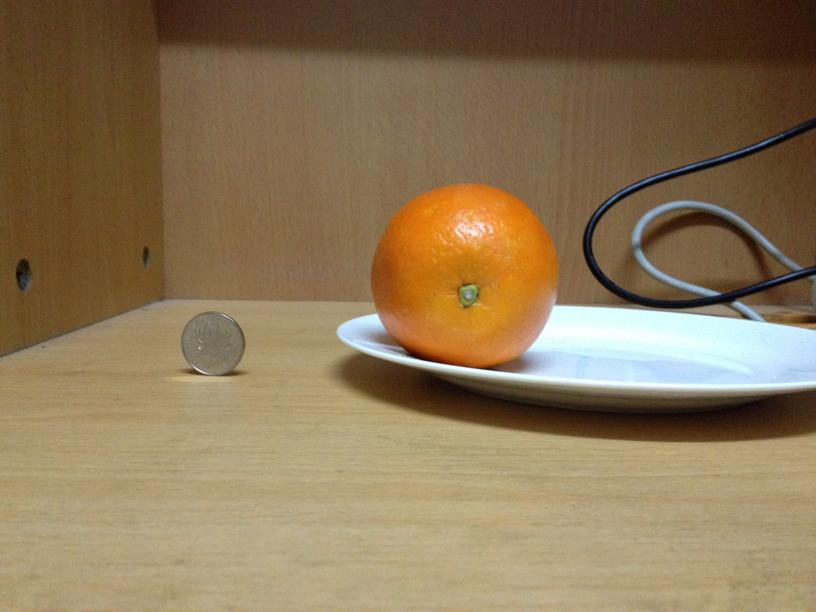coin: (179, 313, 246, 375)
orange: (369, 178, 556, 366)
